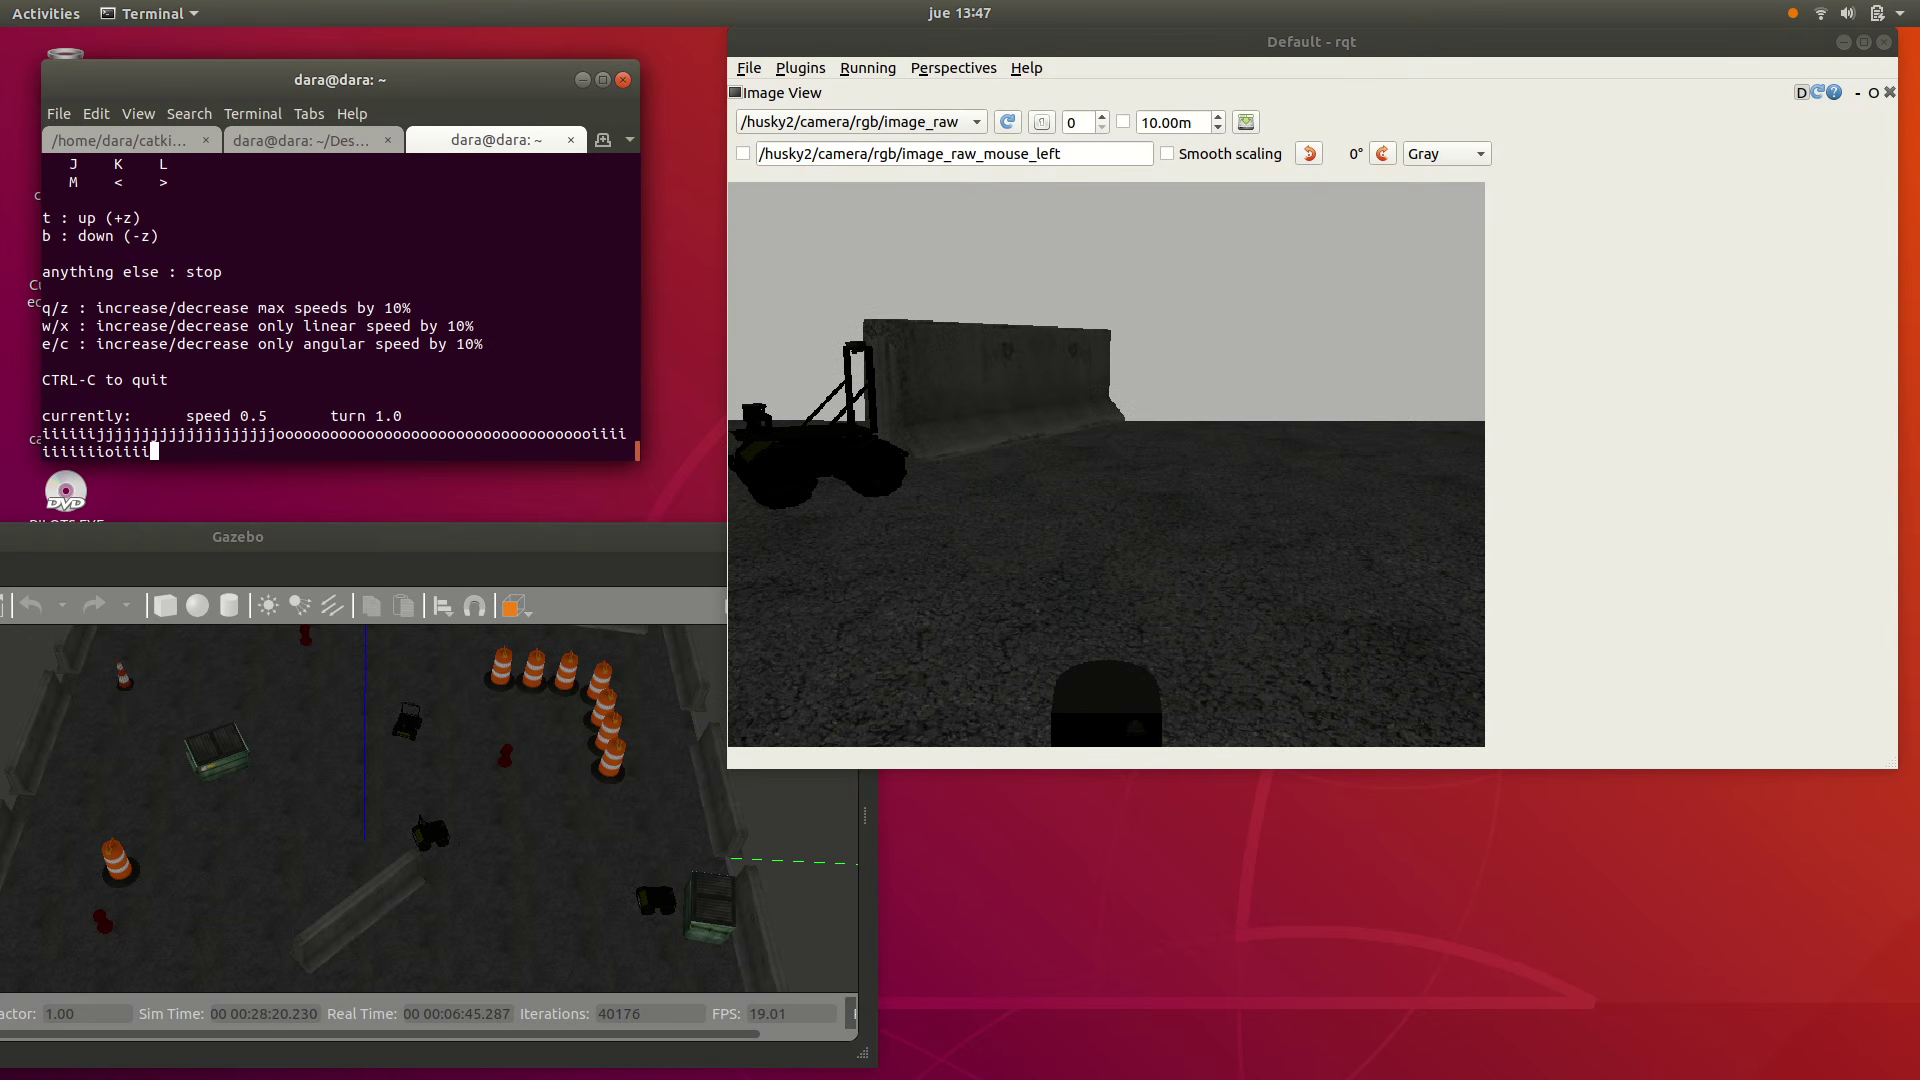husky: (729, 427, 911, 509), (410, 819, 451, 854), (636, 886, 677, 917), (391, 712, 423, 741)
